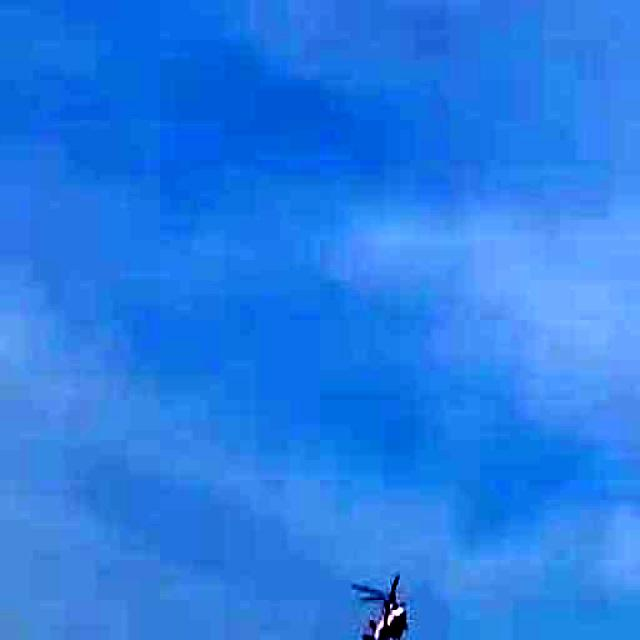drone: (344, 568, 430, 640)
